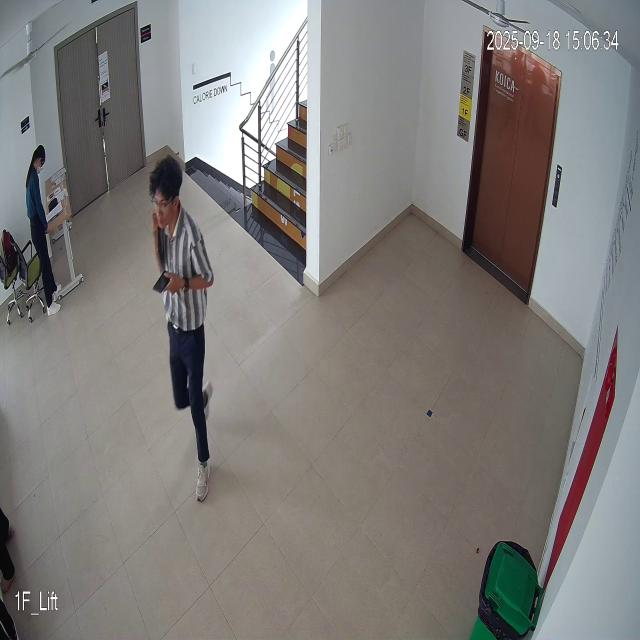face: (150, 154, 182, 236)
